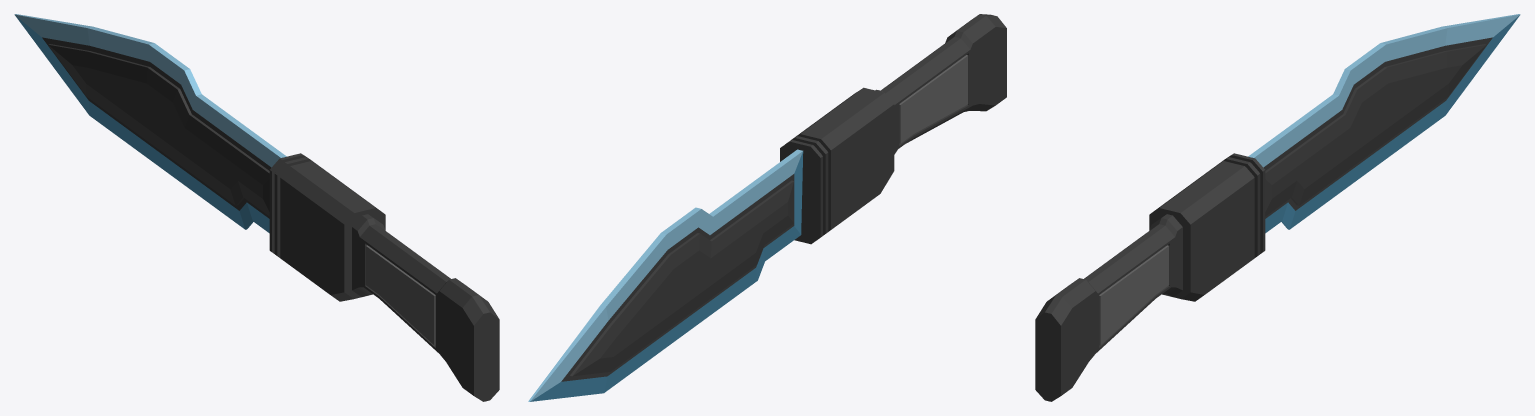
The model's file is Knife.fbx.
3 views of the same model, side by side, from view 1: azimuth 30°, elevation 25°; view 2: azimuth 150°, elevation 25°; view 3: azimuth 330°, elevation 25° (orthographic).
Visible parts, largest first — view 1: Cube.009; view 2: Cube.009; view 3: Cube.009.
Boxes of the visible parts, bbox=[...] form: Cube.009: bbox=[14, 14, 499, 401]; Cube.009: bbox=[528, 14, 1006, 401]; Cube.009: bbox=[1035, 14, 1520, 401].
Size of the model in its own units: 4.95 by 13.38 by 98.09.
